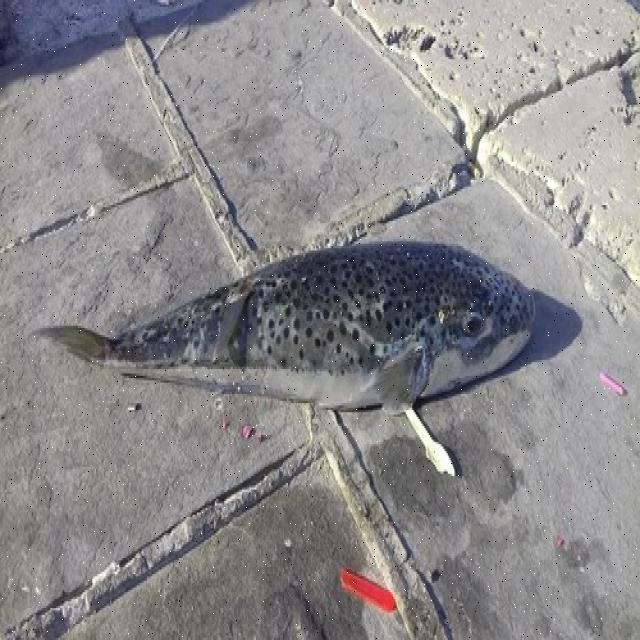Balik: (41, 242, 533, 412)
